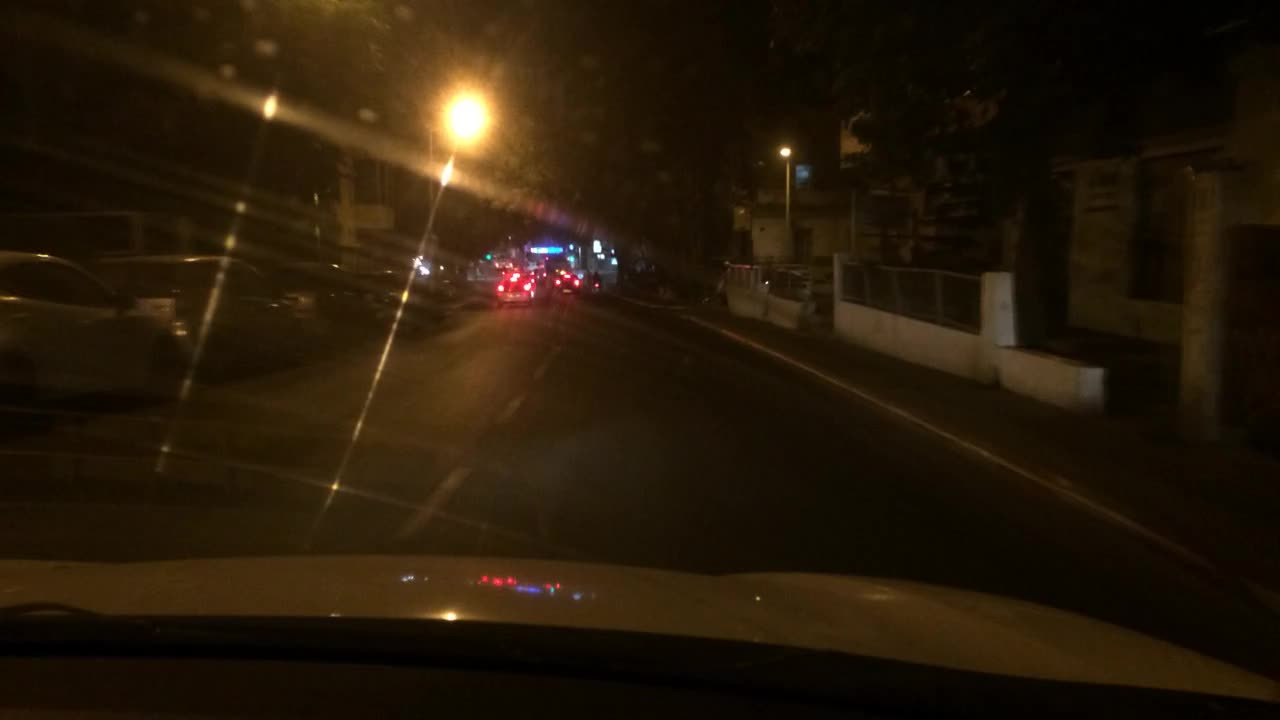car: (0, 240, 199, 424), (92, 248, 296, 368), (269, 257, 367, 340), (353, 267, 434, 334), (493, 272, 539, 307), (549, 268, 583, 292), (544, 253, 572, 273), (491, 260, 513, 278), (530, 267, 544, 282)
motor: (589, 282, 601, 295)
rider: (588, 272, 603, 285)
traffic sign: (836, 118, 865, 165)
